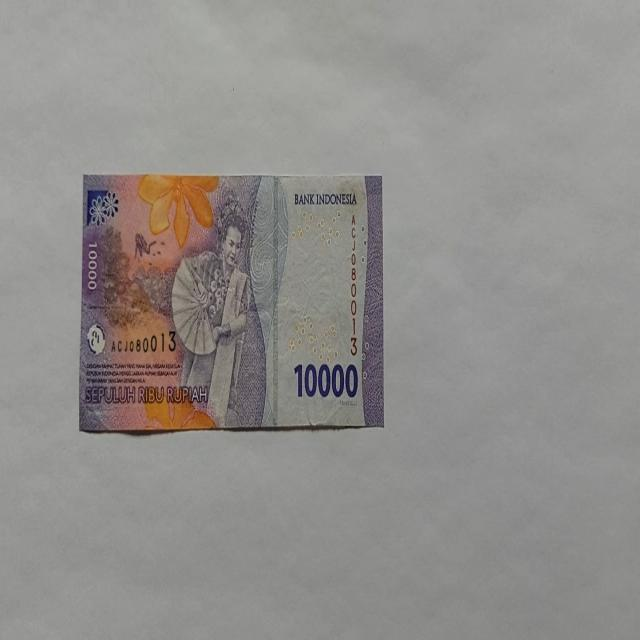sepuluh ribu rupiah: (78, 172, 384, 434)
